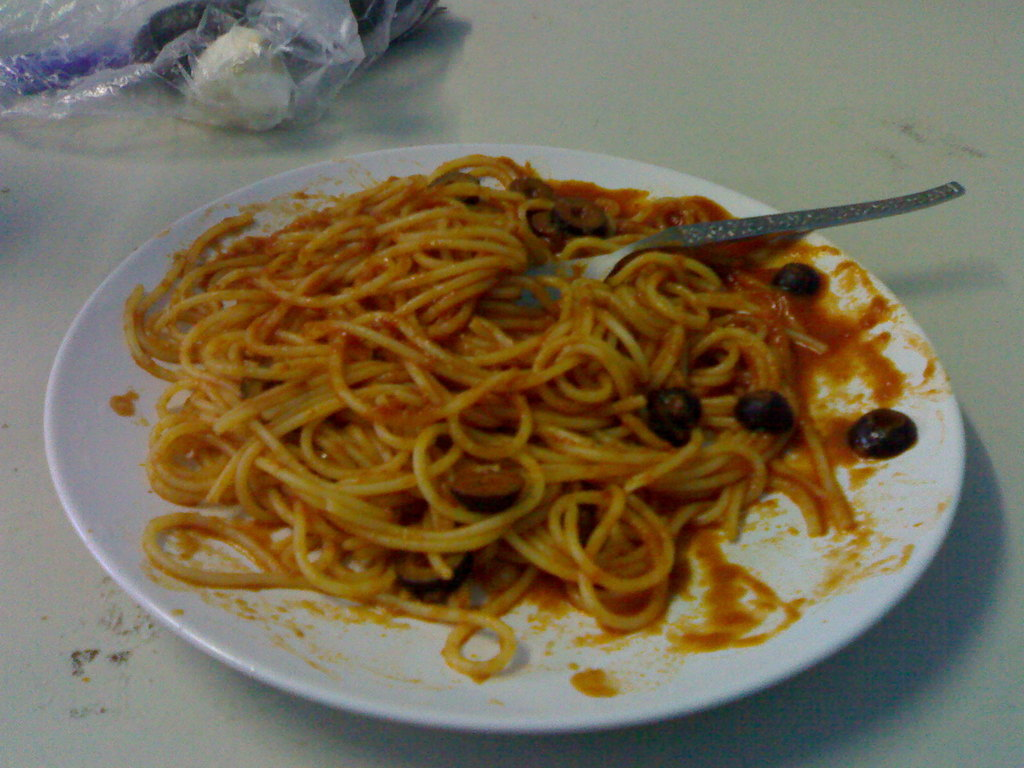pasta: (140, 152, 825, 678)
